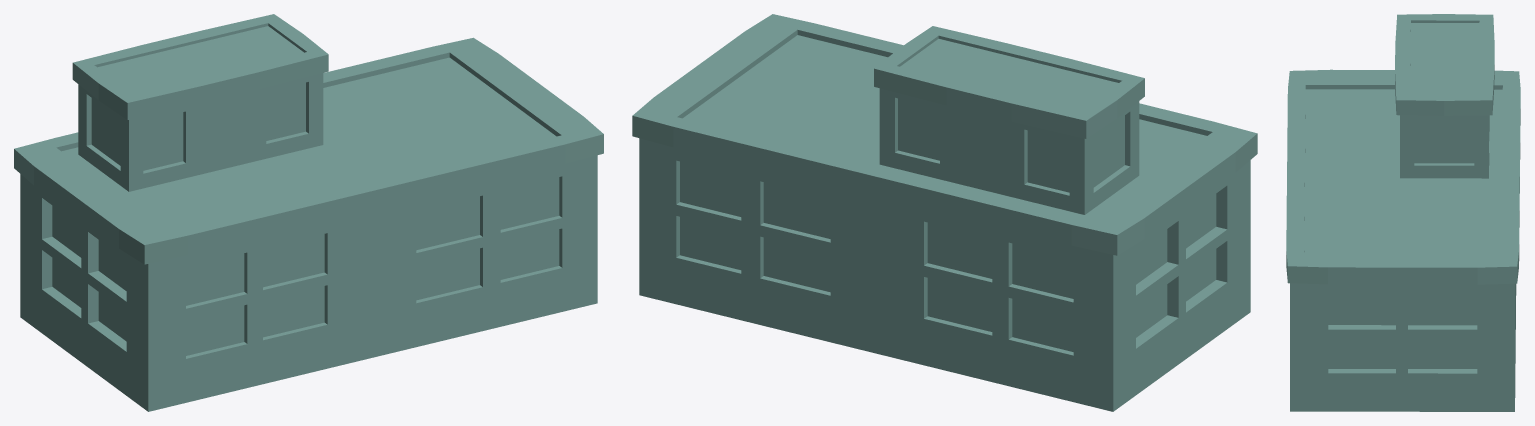
Rendered from building 10.fbx.
3 renders of one model, left to right at view 1: azimuth 30°, elevation 25°; view 2: azimuth 150°, elevation 25°; view 3: azimuth 270°, elevation 25°, orthographic. The views are drawn at different scales.
Parts seen in each view (by area): view 1: building 10; view 2: building 10; view 3: building 10.
Boxes of the visible parts, bbox=[...] form: building 10: bbox=[14, 14, 603, 411]; building 10: bbox=[632, 14, 1257, 411]; building 10: bbox=[1286, 14, 1520, 411].
Bounding box in the file's own units: 2967 × 1558 × 1485.
